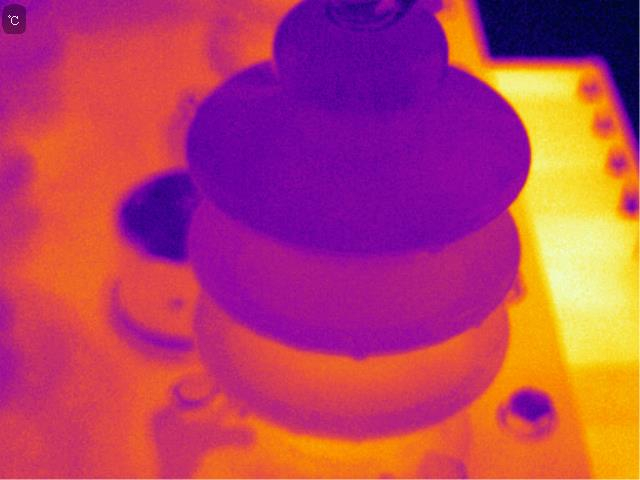Oil: (346, 345, 368, 364)
